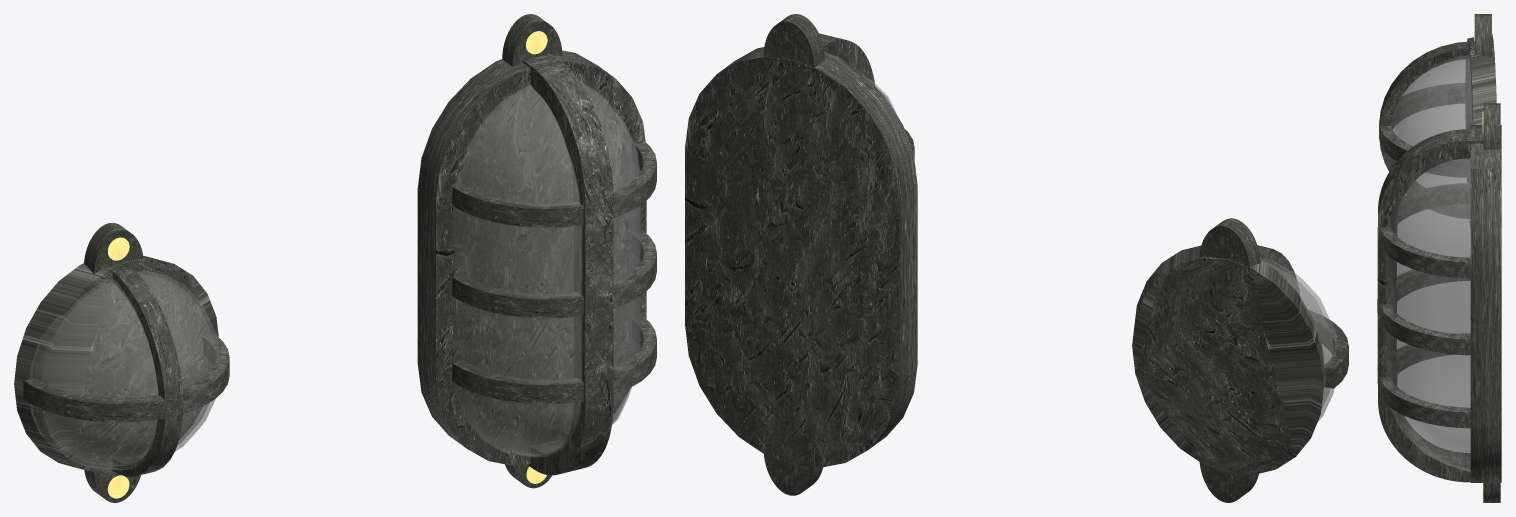
Rendered from Model_GitterLamper.FBX.
3 renders of one model, left to right at view 1: azimuth 30°, elevation 25°; view 2: azimuth 150°, elevation 25°; view 3: azimuth 270°, elevation 25°, orthographic. The views are drawn at different scales.
Parts seen in each view (by area): view 1: baksiden, glass_stor, bakside_liten, glass_liten, Cylinder004, Cylinder009, Cylinder010, Cylinder003, Cylinder001, Cylinder002, Cylinder005, Cylinder012 (+1 smaller); view 2: baksiden, bakside_liten, Cylinder005, glass_liten, Cylinder012, Cylinder009, Cylinder006, Cylinder014, Cylinder004, Cylinder010; view 3: glass_stor, baksiden, Cylinder004, glass_liten, Cylinder003, Cylinder002, Cylinder009, Cylinder001, Cylinder010, bakside_liten, Cylinder005, Cylinder012 (+1 smaller).
Part boxes in pixels (x1=…): baksiden: x1=417, y1=50, x2=646, y2=465; glass_stor: x1=454, y1=82, x2=641, y2=457; bakside_liten: x1=14, y1=256, x2=218, y2=474; glass_liten: x1=30, y1=271, x2=219, y2=470; Cylinder004: x1=523, y1=53, x2=613, y2=475; Cylinder009: x1=23, y1=334, x2=229, y2=422; Cylinder010: x1=112, y1=266, x2=183, y2=476; Cylinder003: x1=452, y1=140, x2=656, y2=227; Cylinder001: x1=452, y1=316, x2=656, y2=404; Cylinder002: x1=452, y1=231, x2=656, y2=318; Cylinder005: x1=502, y1=14, x2=562, y2=66; Cylinder012: x1=84, y1=222, x2=143, y2=274; baksiden: x1=685, y1=47, x2=917, y2=467; bakside_liten: x1=1132, y1=245, x2=1324, y2=474; Cylinder005: x1=763, y1=14, x2=824, y2=67; glass_liten: x1=1260, y1=258, x2=1337, y2=422; Cylinder012: x1=1199, y1=218, x2=1260, y2=267; Cylinder009: x1=1308, y1=310, x2=1348, y2=388; Cylinder006: x1=764, y1=454, x2=822, y2=495; Cylinder014: x1=1199, y1=462, x2=1258, y2=502; Cylinder004: x1=819, y1=33, x2=874, y2=84; Cylinder010: x1=1257, y1=245, x2=1299, y2=295; glass_stor: x1=1385, y1=158, x2=1470, y2=471; baksiden: x1=1470, y1=125, x2=1501, y2=482; Cylinder004: x1=1377, y1=129, x2=1483, y2=482; glass_liten: x1=1391, y1=55, x2=1472, y2=161; Cylinder003: x1=1380, y1=183, x2=1470, y2=278; Cylinder002: x1=1380, y1=269, x2=1470, y2=355; Cylinder009: x1=1379, y1=83, x2=1470, y2=177; Cylinder001: x1=1380, y1=333, x2=1470, y2=428; Cylinder010: x1=1379, y1=41, x2=1469, y2=218; bakside_liten: x1=1465, y1=34, x2=1496, y2=226; Cylinder005: x1=1483, y1=103, x2=1500, y2=149; Cylinder012: x1=1474, y1=14, x2=1491, y2=56.
Size of the model in its own units: 141 by 101 by 28.64.
3 materials, 2 textured.
